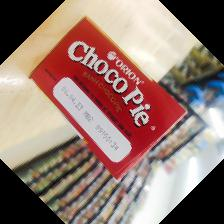Chocopie: (29, 14, 188, 182)
